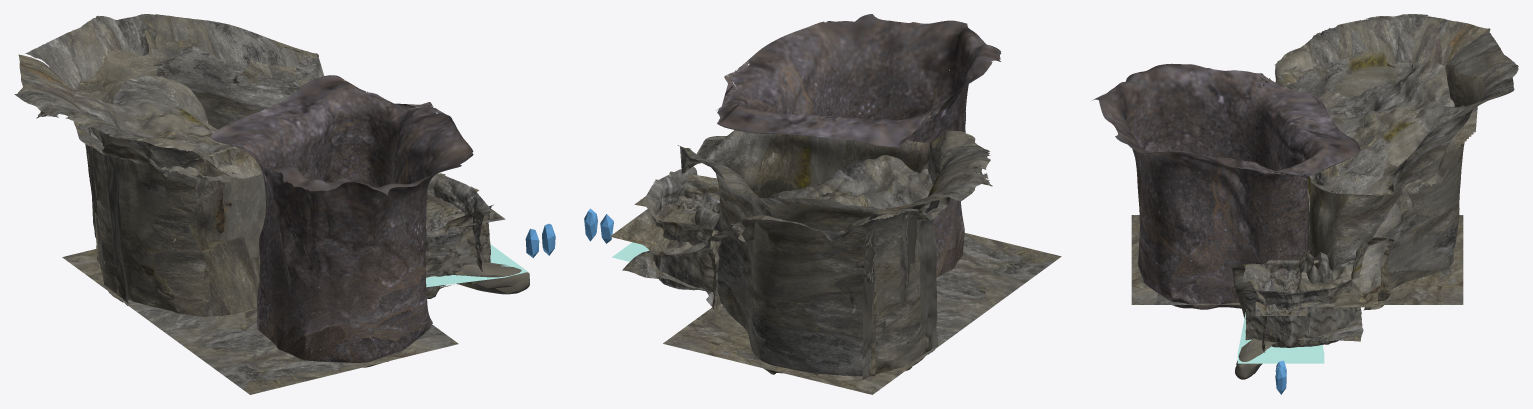
Rendered from cave.fbx.
The picture shows the model from 3 angles, left to right: view 1: azimuth 30°, elevation 25°; view 2: azimuth 150°, elevation 25°; view 3: azimuth 270°, elevation 25°; orthographic projection. The views are drawn at different scales.
Visible parts, largest first — view 1: Landscape.001, Landscape.012, Plane, Landscape.017, Landscape.005, Landscape.009, Landscape.002, Landscape_plane.001, Landscape.019; view 2: Landscape.001, Landscape.012, Plane, Landscape.017, Landscape.009, Landscape.002, Landscape.019, Landscape.005, Landscape.008; view 3: Landscape.012, Landscape.001, Landscape.017, Landscape.009, Plane, Landscape.019, Landscape.002, Landscape_plane.001, Landscape.005, Landscape.008.
Part boxes in pixels (box(x1,y1,x2,y2)): Landscape.001: box(14, 14, 324, 316); Landscape.012: box(210, 75, 473, 367); Plane: box(62, 249, 458, 394); Landscape.017: box(73, 75, 453, 210); Landscape.005: box(425, 204, 493, 298); Landscape.009: box(426, 173, 491, 284); Landscape.002: box(426, 262, 529, 294); Landscape_plane.001: box(426, 244, 527, 287); Landscape.019: box(426, 204, 505, 231); Landscape.001: box(678, 130, 992, 379); Landscape.012: box(716, 14, 1001, 277); Plane: box(663, 233, 1061, 394); Landscape.017: box(610, 155, 950, 257); Landscape.009: box(640, 166, 721, 313); Landscape.002: box(622, 251, 724, 308); Landscape.019: box(634, 193, 719, 214); Landscape.005: box(669, 171, 719, 198); Landscape.008: box(695, 203, 719, 228); Landscape.012: box(1092, 63, 1360, 309); Landscape.001: box(1274, 14, 1518, 310); Landscape.017: box(1301, 61, 1477, 307); Landscape.009: box(1244, 237, 1394, 347); Plane: box(1131, 215, 1463, 304); Landscape.019: box(1255, 260, 1319, 317); Landscape.002: box(1235, 302, 1379, 379); Landscape_plane.001: box(1237, 312, 1324, 363); Landscape.005: box(1227, 263, 1268, 352); Landscape.008: box(1298, 245, 1333, 283).
Bounding box in the file's own units: 7367 × 3682 × 6721.
Materials: 6 (4 with a texture image).
